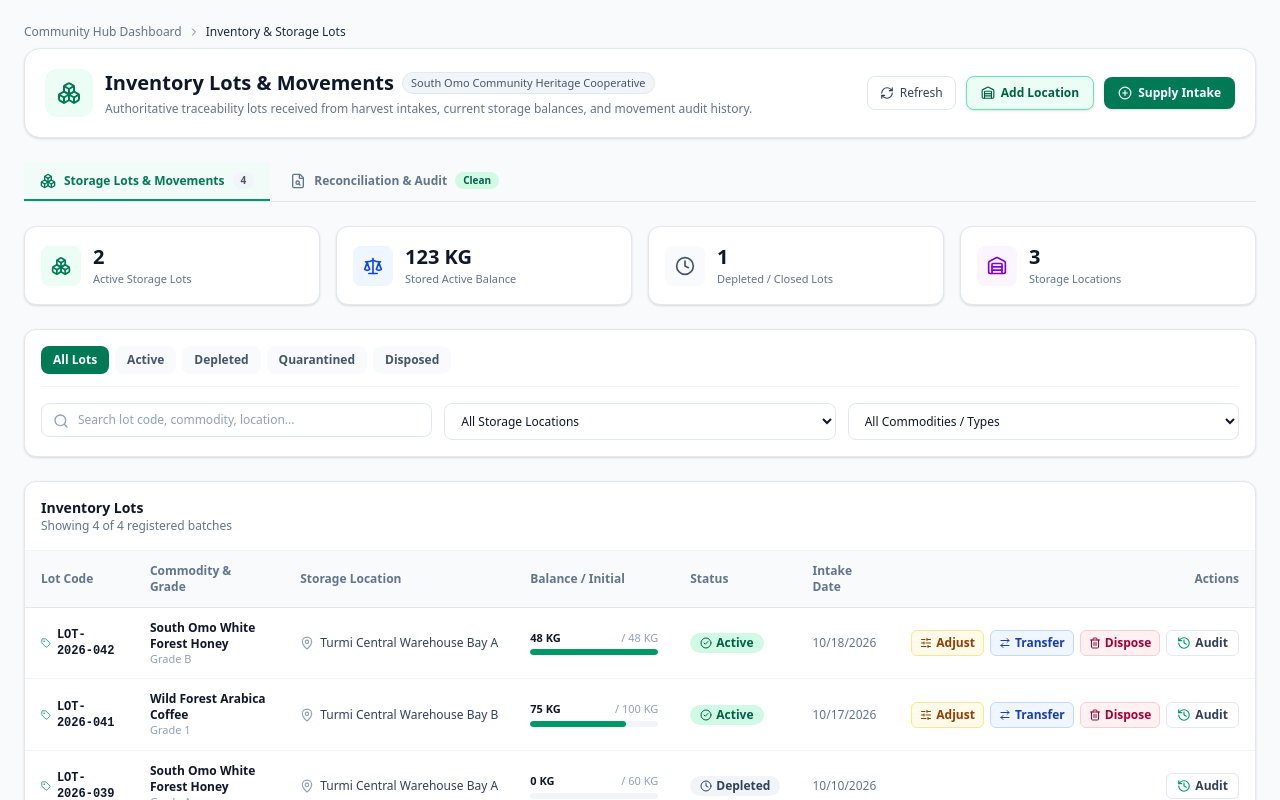
F-902: Inventory Adjustments, Transfers, and Disposals › successfully executes a balance adjustment when inputs are valid
This screenshot has width=1280, height=800.
Click the button with test id "adjust-lot-btn-lot-001". click: click(948, 643)
box: [911,630,984,656]
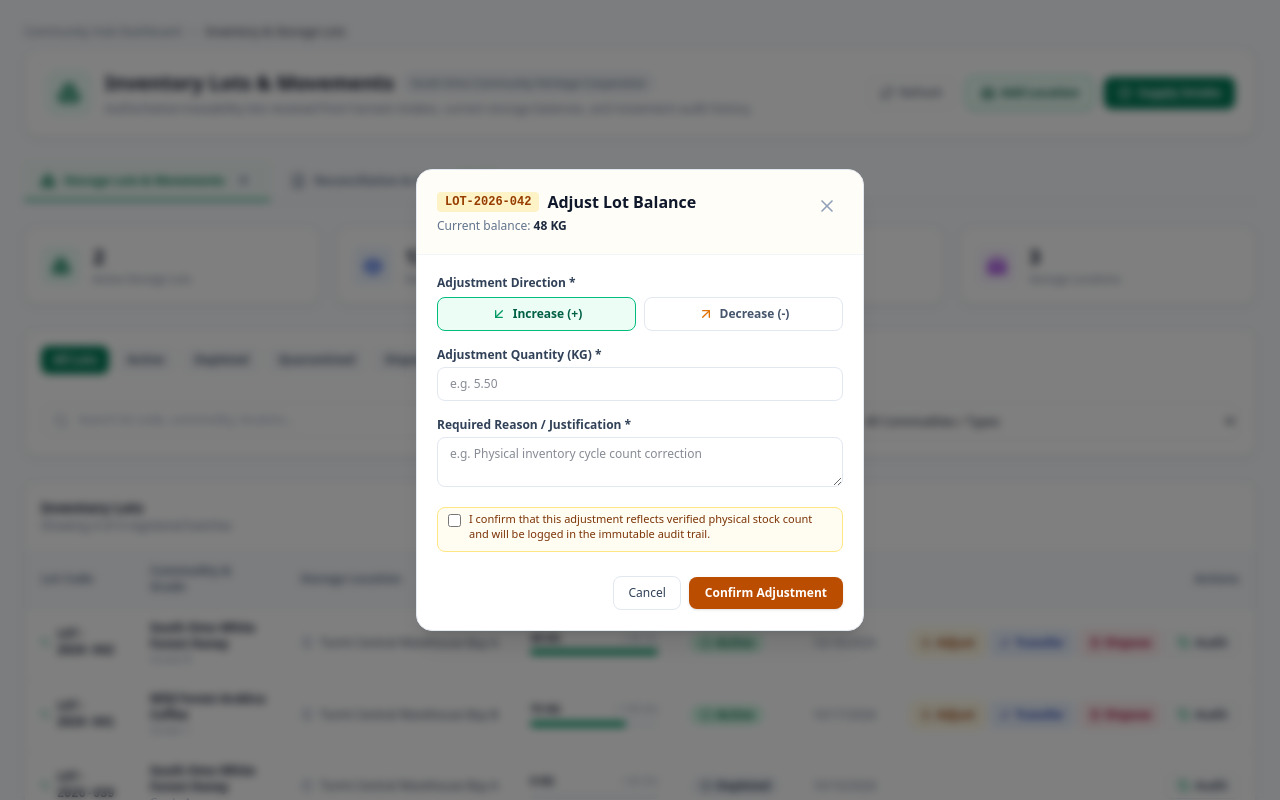
expect the element with test id "adjust-lot-modal" is shown: met
Type "5" into the number field with test id "adjust-quantity-input". click: (640, 384)
box: [437,367,843,401]
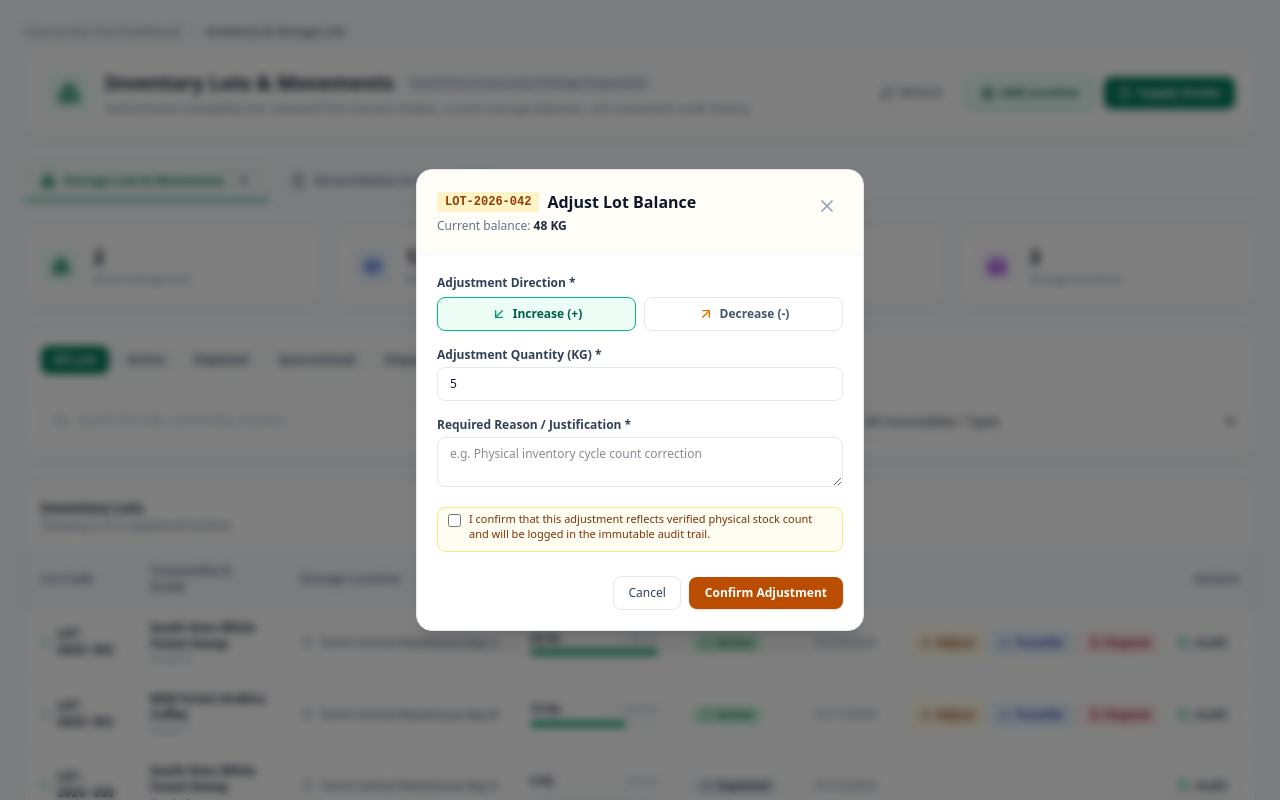
Type "Physical count adjustment" into the text box with test id "adjust-reason-input". click: (640, 462)
box: [437,437,843,487]
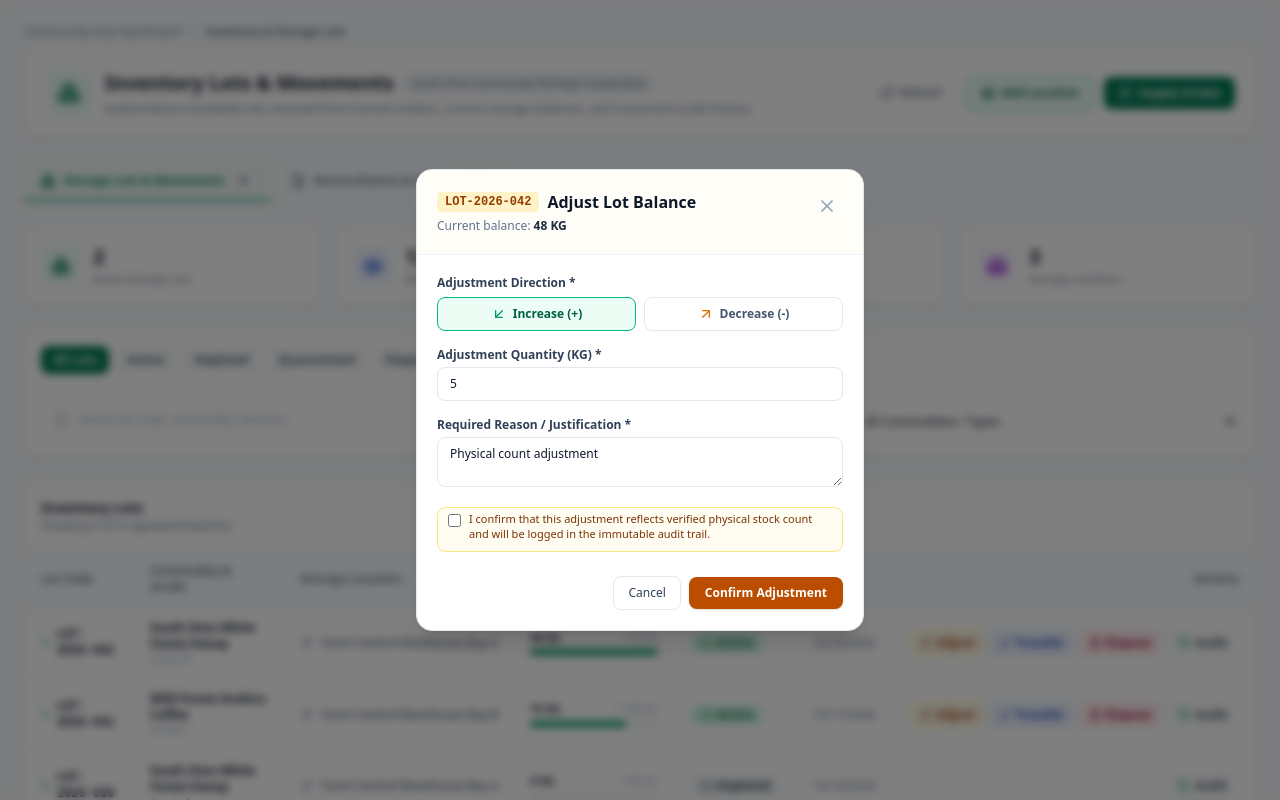
Click the checkbox with test id "confirm-adjust-checkbox". click: click(454, 520)
box: [448,514,461,527]
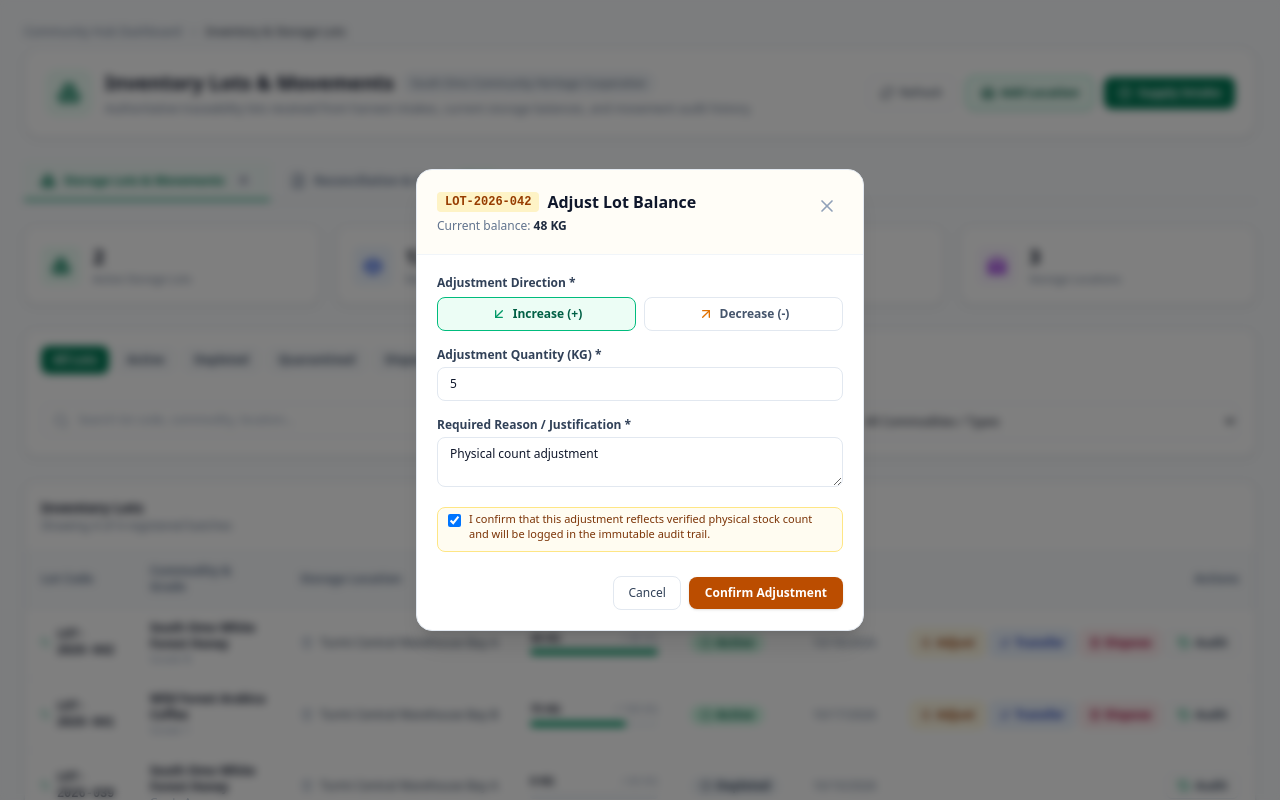
Click the button with test id "submit-adjust-btn". click: click(766, 593)
box: [689,577,843,609]
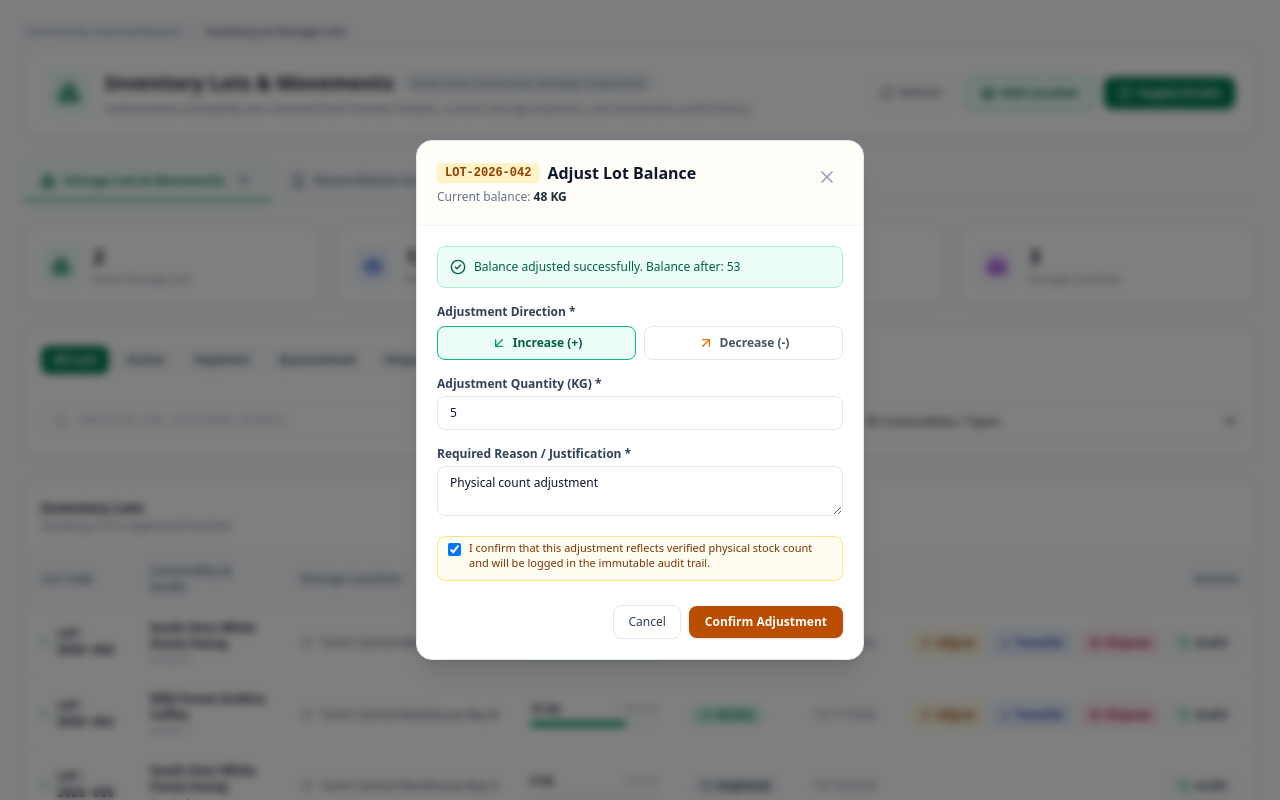
expect the text "Balance adjusted successfully. Balance after: 53" is shown: met, box [474,259,740,275]
